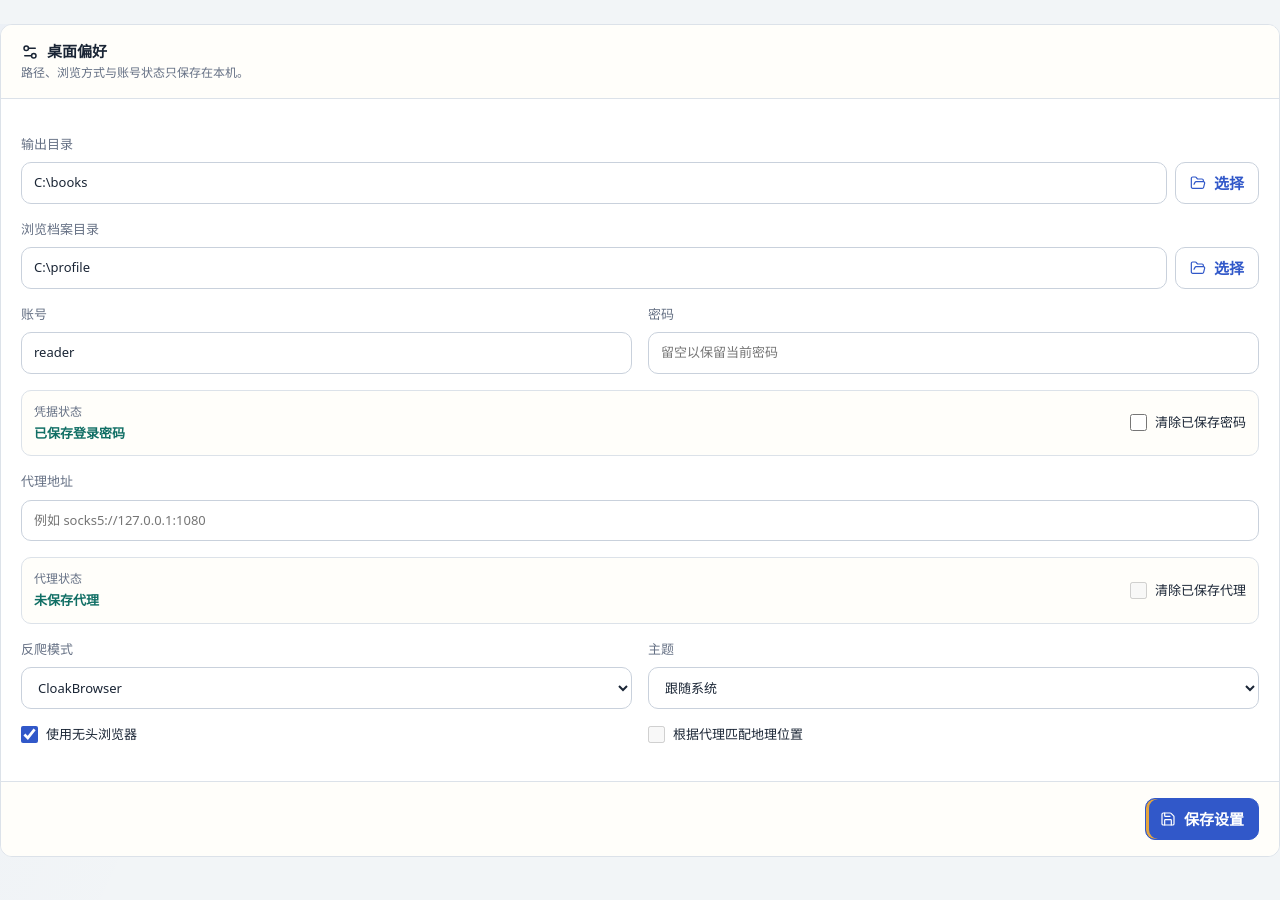
Test: SettingsPage › uses the desktop directory picker for the output directory
What coordinates should you click on to do the following:
click the button named "选择输出目录"
I would click on:
 (1217, 182)
Its box is [1175, 162, 1259, 204].
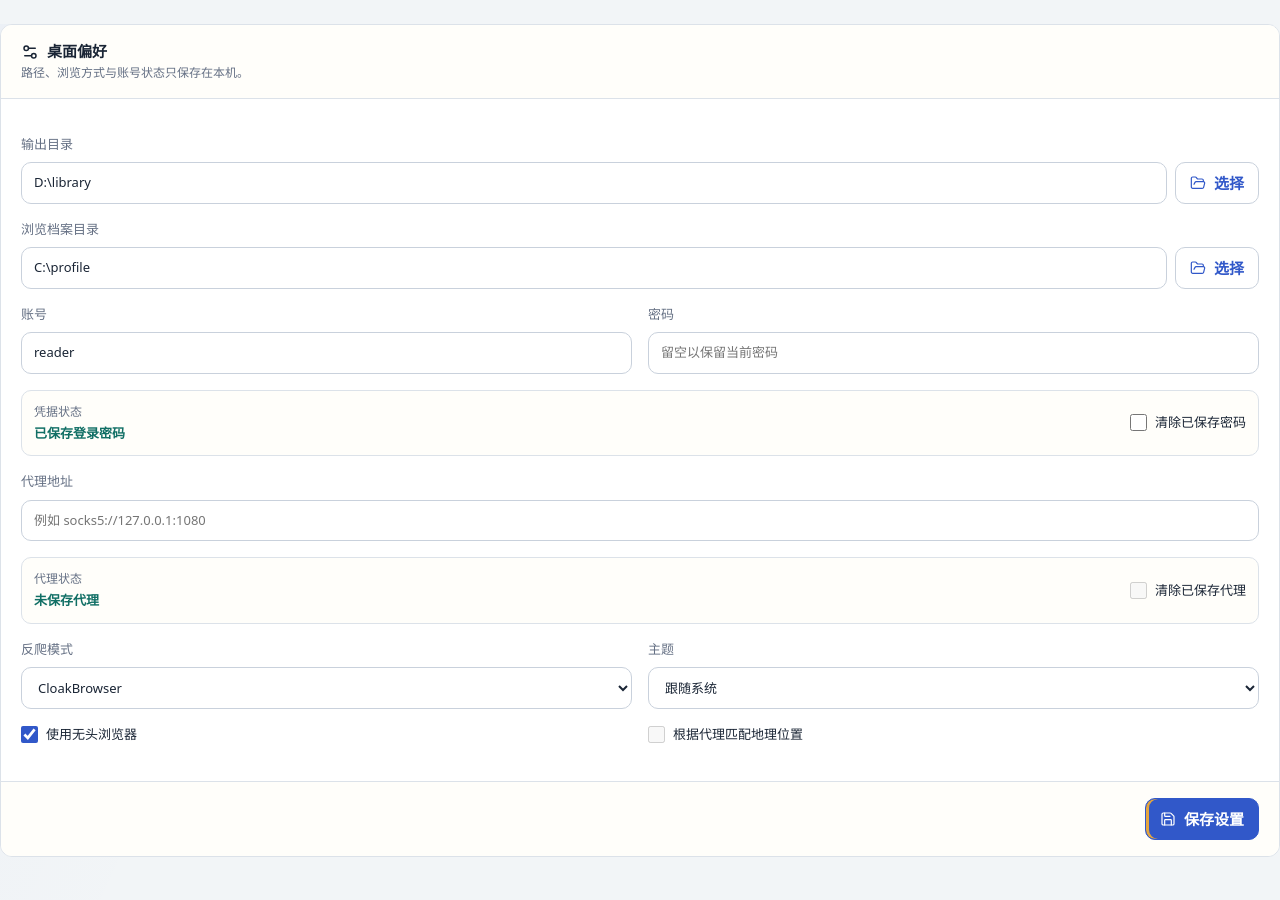
expect the field labelled "输出目录" holds "D:\\library": met, box [21, 162, 1167, 204]
